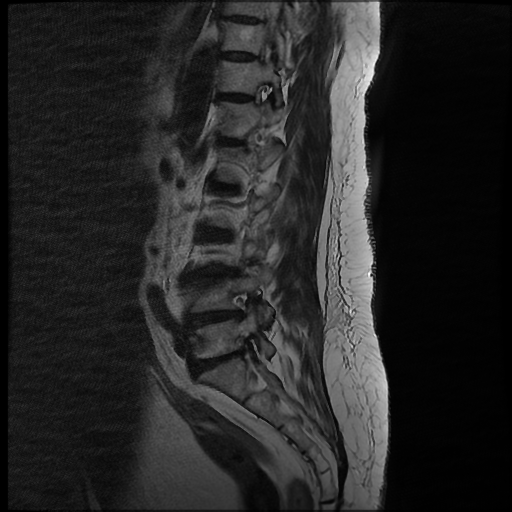LFS1: (226, 286, 256, 325)
